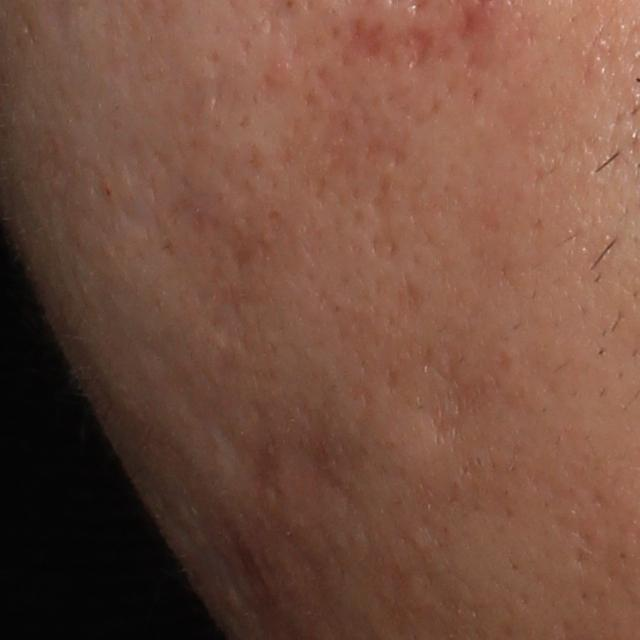atrophic_scar: (425, 344, 504, 444), (294, 430, 358, 508), (341, 14, 395, 68), (230, 437, 282, 492), (202, 48, 233, 117), (399, 23, 435, 75)
